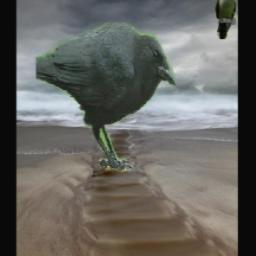Crow: (36, 24, 177, 174)
Cuckoo: (215, 0, 237, 40)
